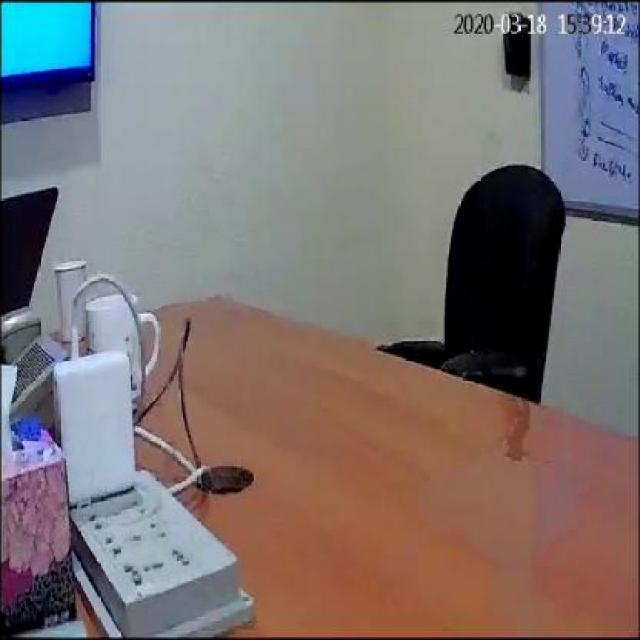spill: (416, 455, 598, 560)
